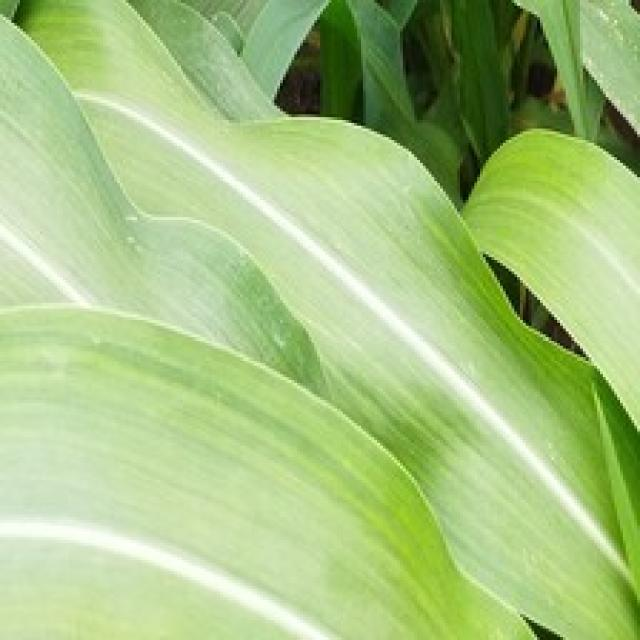Corn: (0, 0, 637, 637), (457, 123, 637, 637)
